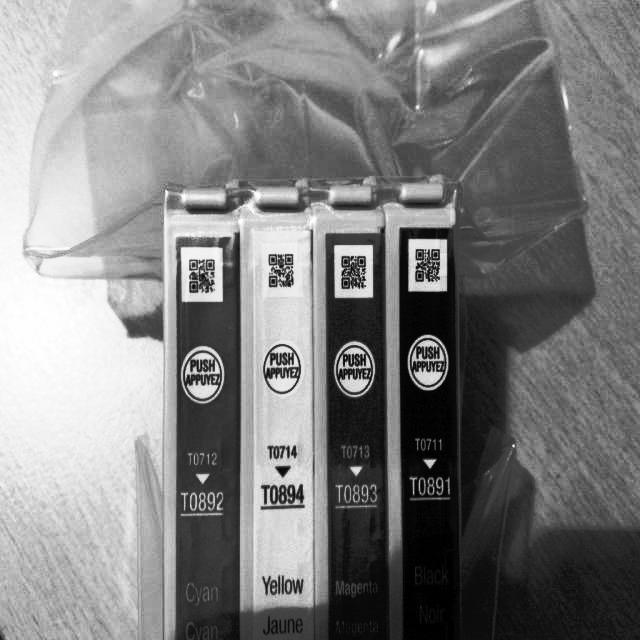qr_code: (189, 259, 214, 292), (269, 254, 293, 287), (341, 256, 365, 288), (416, 249, 440, 281)
